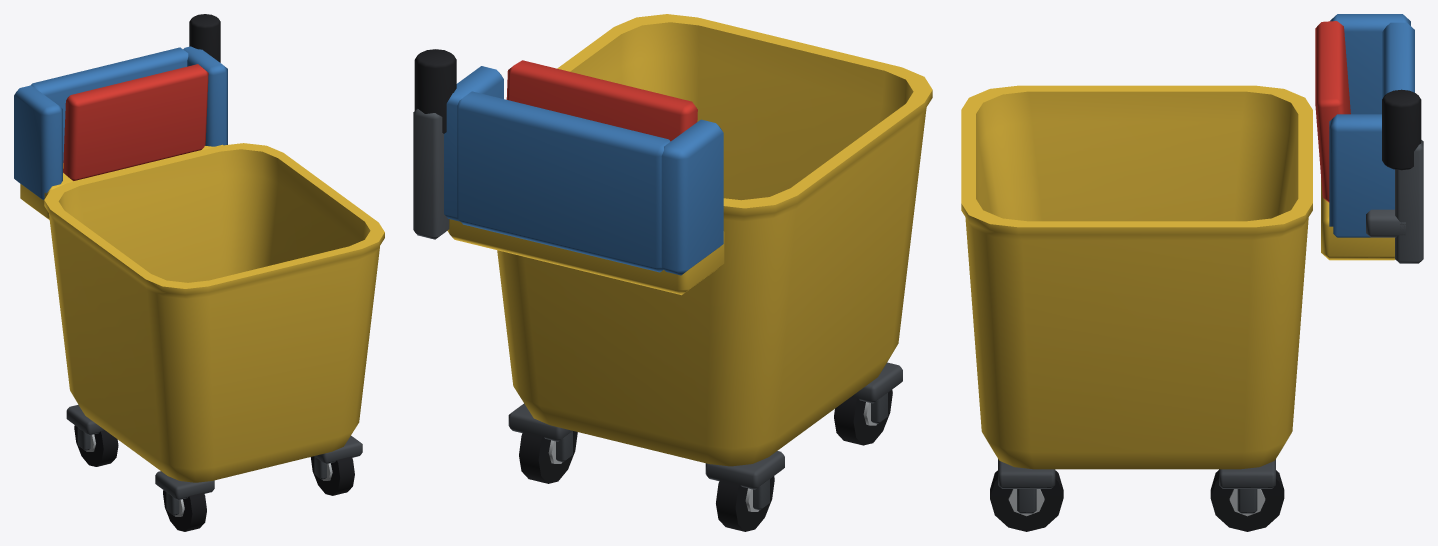
The model's file is MopBucket_01.glb.
The picture shows the model from 3 angles, left to right: view 1: azimuth 30°, elevation 25°; view 2: azimuth 150°, elevation 25°; view 3: azimuth 270°, elevation 25°; orthographic projection. The views are drawn at different scales.
Parts seen in each view (by area): view 1: SM_MopBucket_01; view 2: SM_MopBucket_01; view 3: SM_MopBucket_01.
Boxes of the visible parts, x1,y1,x2,y2 form: SM_MopBucket_01: (14, 14, 384, 531); SM_MopBucket_01: (413, 14, 932, 531); SM_MopBucket_01: (961, 14, 1423, 531).
Size of the model in its own units: 0.41 by 0.6 by 0.5655.
Materials: 1 (1 with a texture image).
